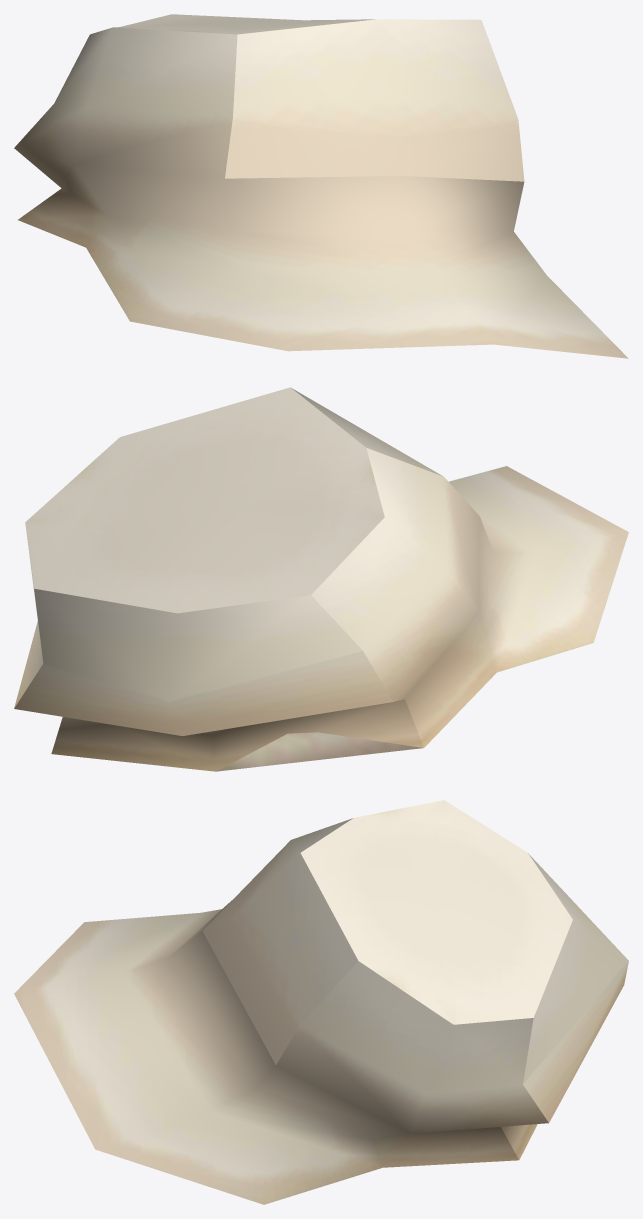
The model's file is helm0068.fbx.
The picture shows the model from 3 angles, top to bottom: view 1: azimuth 30°, elevation 25°; view 2: azimuth 150°, elevation 25°; view 3: azimuth 270°, elevation 25°; orthographic projection. The views are drawn at different scales.
Visible parts, largest first — view 1: helm0068; view 2: helm0068; view 3: helm0068.
Boxes of the visible parts, x1=… form: helm0068: x1=14, y1=14, x2=628, y2=358; helm0068: x1=14, y1=387, x2=628, y2=771; helm0068: x1=14, y1=800, x2=628, y2=1204.
Bounding box in the file's own units: 0.3148 × 0.224 × 0.4313.
